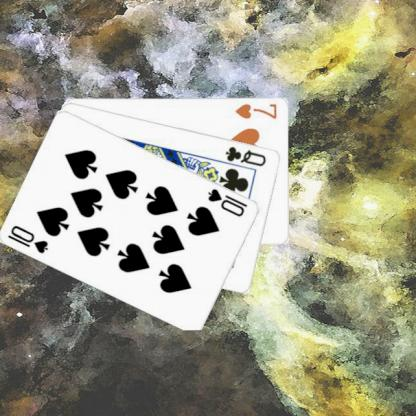10S: (5, 221, 51, 254), (205, 186, 249, 218)
7H: (232, 100, 278, 120)
QC: (222, 143, 268, 168)
